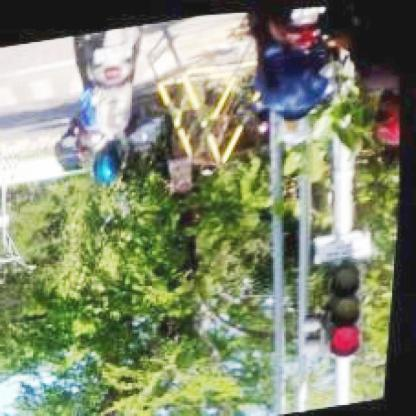Traffic Light -Red-: (326, 262, 374, 357)
